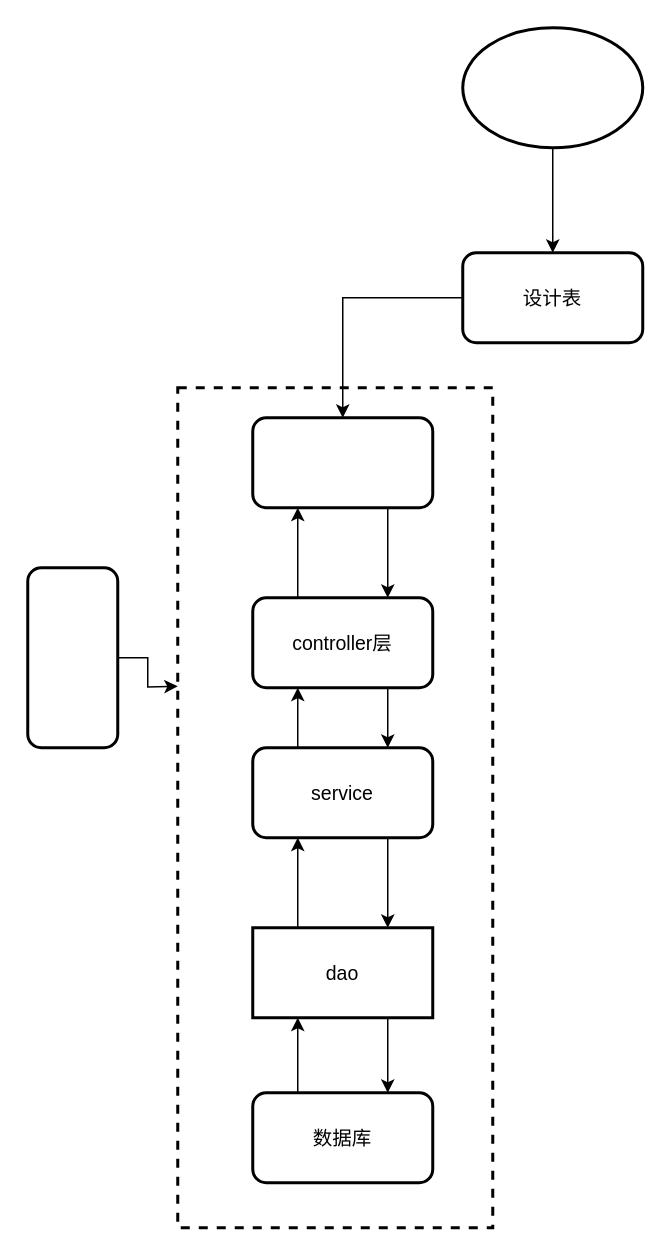
Some shapes in this 669 by 1254 pixel diagram are drawn without their labels. The shapes that lost their labels are listed below. From the top down, each one's centre as x and y in pixels, then its label:
At point (552, 87): "商机跟进".
At point (342, 462): "新增一条商机跟进记录".
At point (72, 657): "入参 返回值 请求方式".
